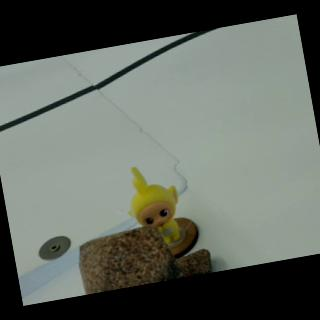teletubby: (129, 167, 180, 243)
